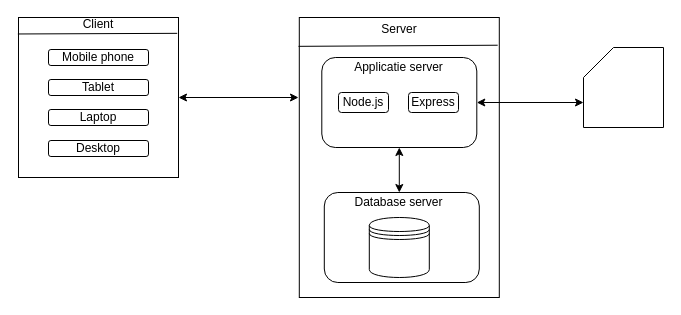
The diagram is 681 pixels wide and 315 high, and some of its shapes have lost their labels. The centre of each missing label's shape, as x and y in pixels:
Mail server: [623,87]
MongoDB: [398,247]
